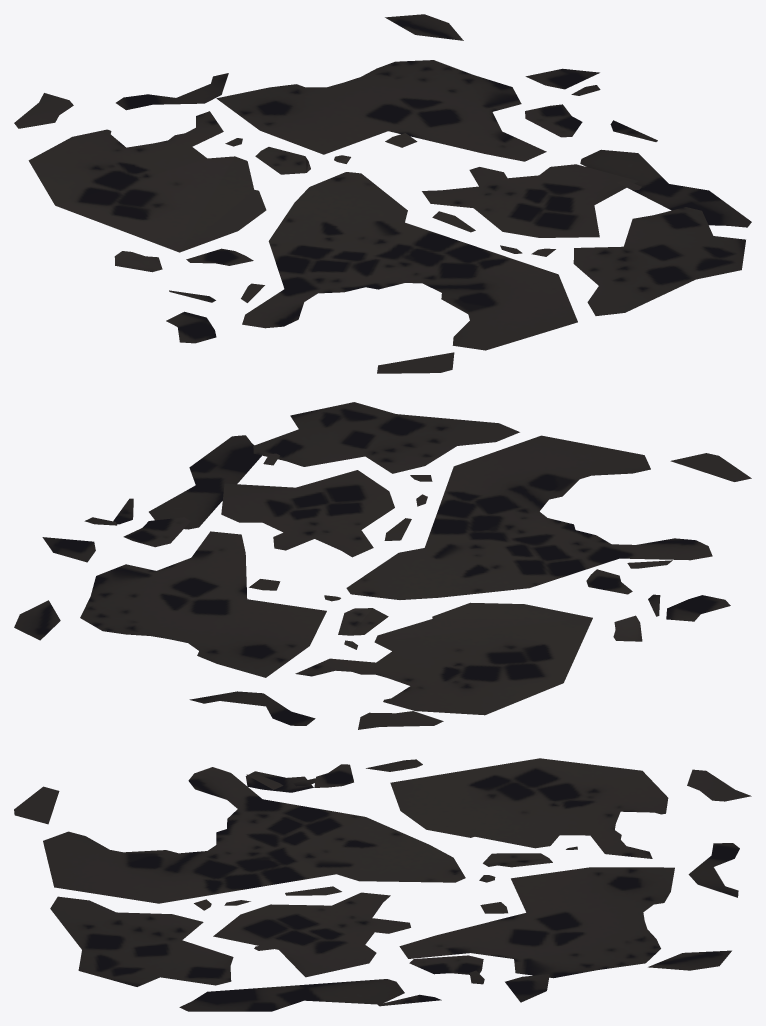
Rendered from Ground_05.FBX.
3 views of the same model, one above another, from view 1: azimuth 30°, elevation 25°; view 2: azimuth 150°, elevation 25°; view 3: azimuth 270°, elevation 25° (orthographic). The views are drawn at different scales.
Visible parts, largest first — view 1: Ground_05; view 2: Ground_05; view 3: Ground_05.
Part boxes in pixels (bbox=[...]): Ground_05: bbox=[14, 14, 751, 373]; Ground_05: bbox=[14, 402, 751, 729]; Ground_05: bbox=[14, 758, 751, 1011].
Size of the model in its own units: 18.97 by 1.34 by 22.41.
